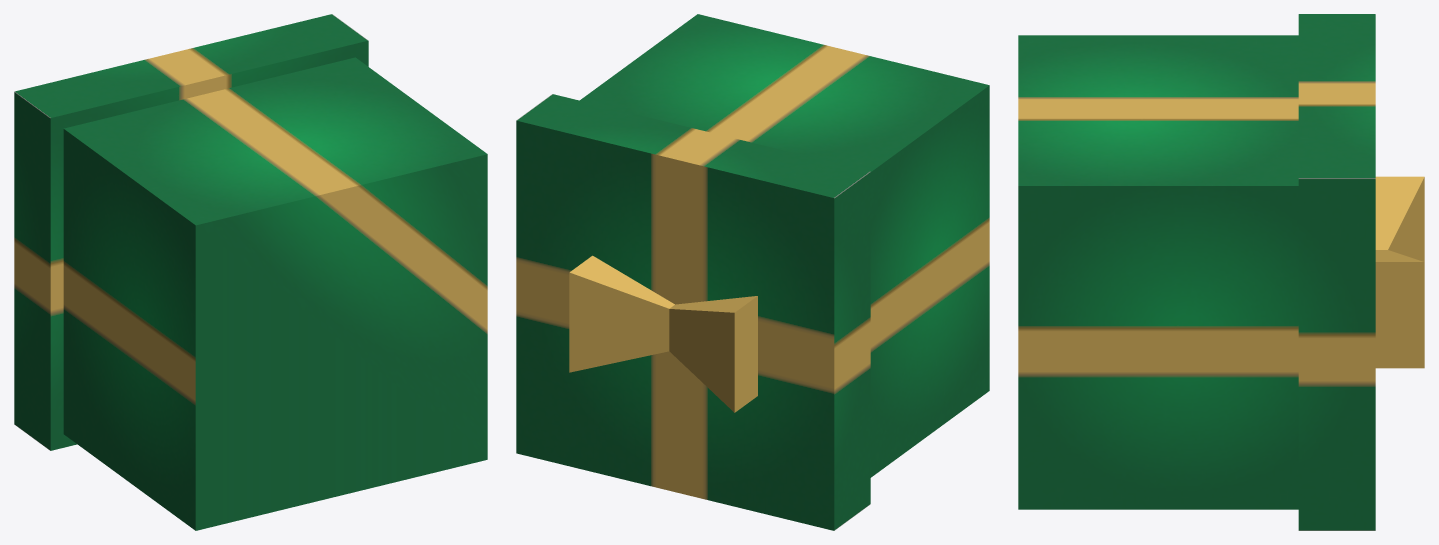
Rendered from present2.fbx.
3 views of the same model, side by side, from view 1: azimuth 30°, elevation 25°; view 2: azimuth 150°, elevation 25°; view 3: azimuth 270°, elevation 25° (orthographic). The views are drawn at different scales.
Parts seen in each view (by area): view 1: Present2; view 2: Present2; view 3: Present2.
Part boxes in pixels (x1,y1,x2,y2): Present2: (14,14,487,530); Present2: (516,14,989,530); Present2: (1018,14,1424,530).
Size of the model in its own units: 0.533 by 0.533 by 0.5565.
